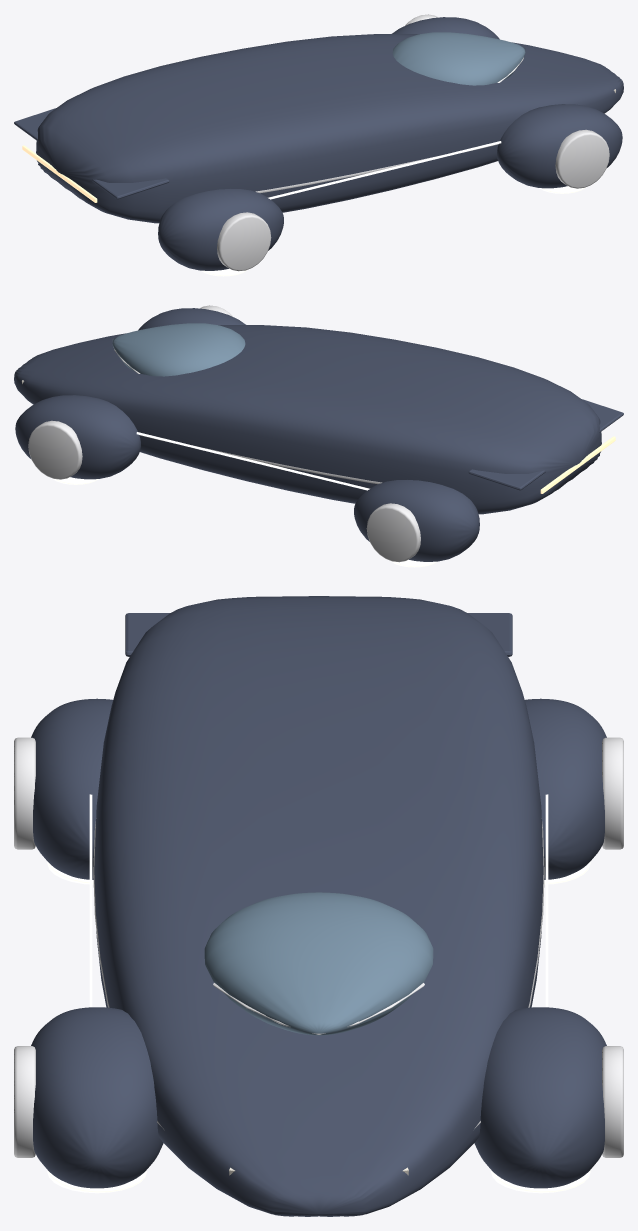
Rendered from SM_CarB.fbx.
3 renders of one model, top to bottom at view 1: azimuth 30°, elevation 25°; view 2: azimuth 150°, elevation 25°; view 3: azimuth 270°, elevation 25°, orthographic. The views are drawn at different scales.
Visible parts, largest first — view 1: SM_CarB; view 2: SM_CarB; view 3: SM_CarB.
Part boxes in pixels (x1,y1,x2,y2): SM_CarB: [14, 14, 623, 276]; SM_CarB: [14, 305, 623, 567]; SM_CarB: [14, 596, 623, 1216].
Bounding box in the file's own units: 3.34 × 6.61 × 1.31.
